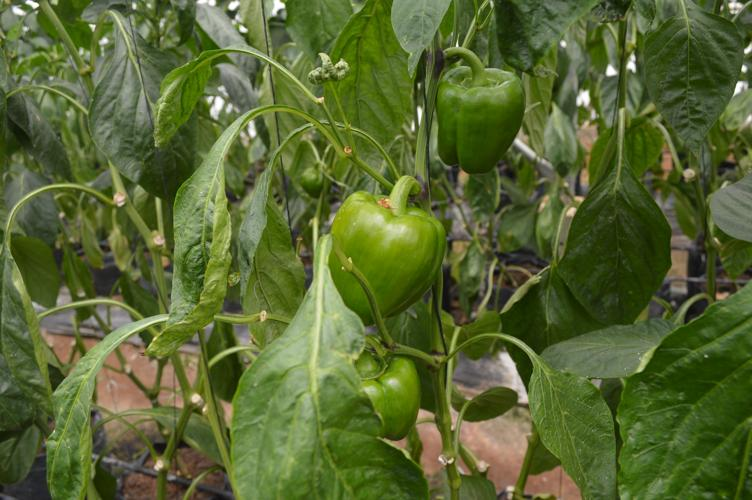BellPepper: (332, 192, 443, 319), (430, 69, 526, 176), (354, 354, 423, 441)
